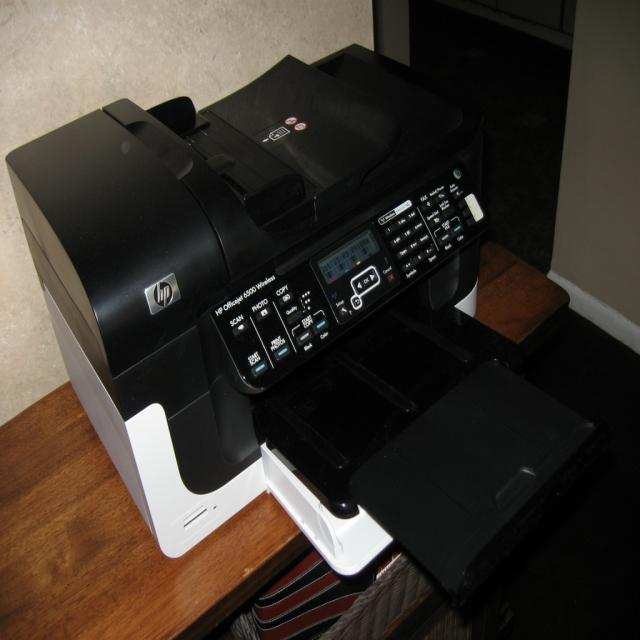HP: (143, 270, 185, 319)
